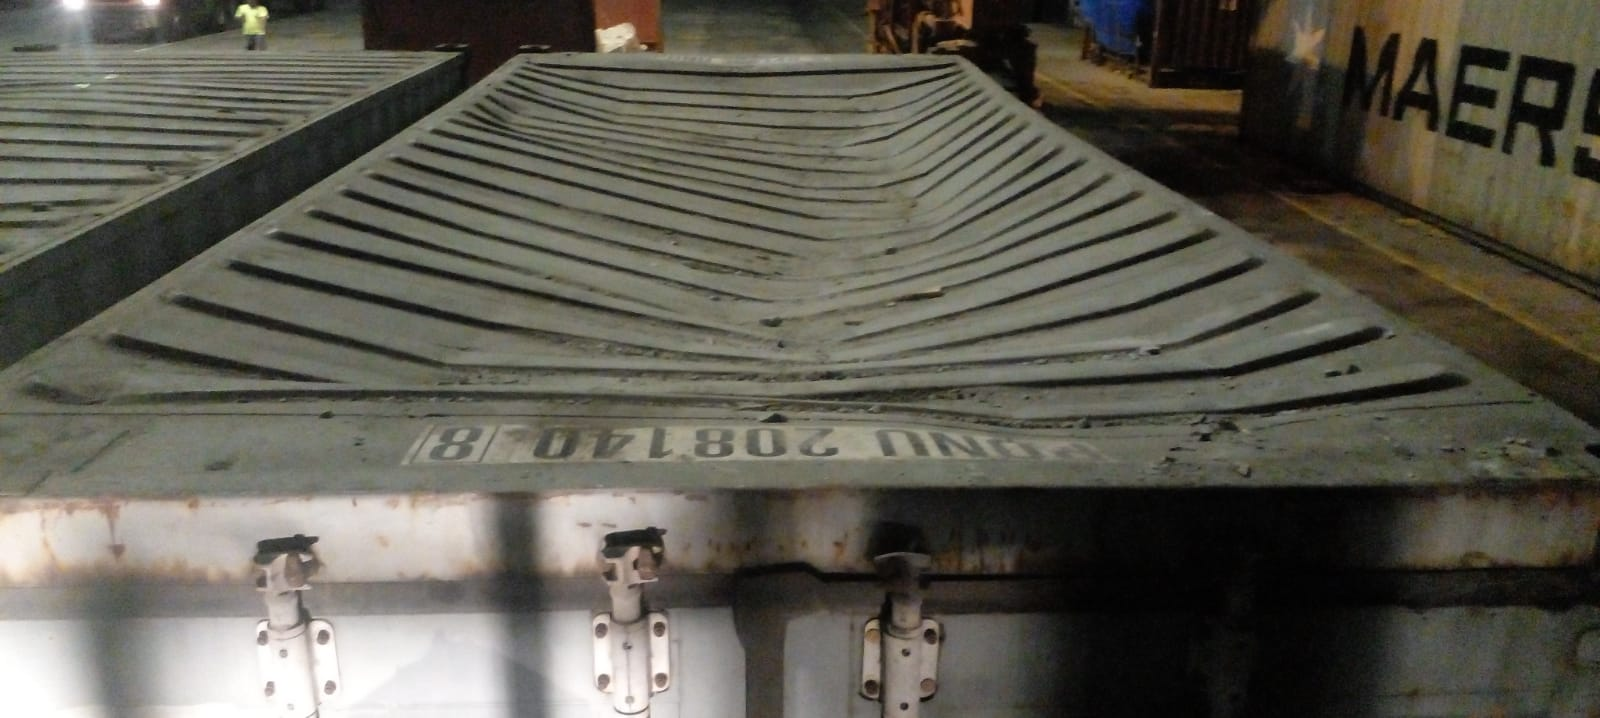dented: (523, 60, 994, 463)
